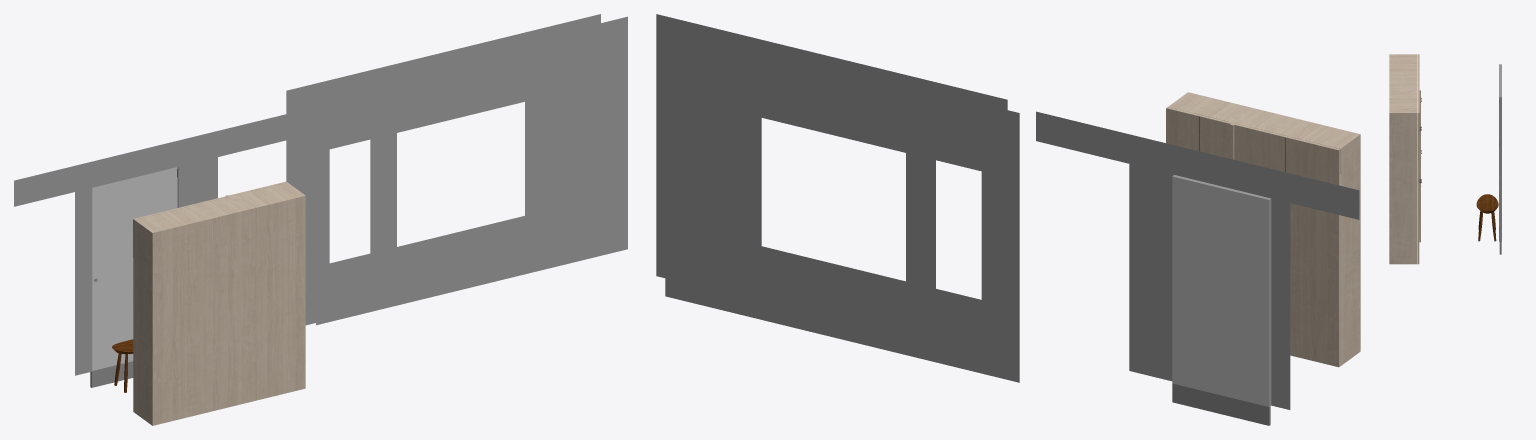
File: chair fix.fbx
3 views of the same model, side by side, from view 1: azimuth 30°, elevation 25°; view 2: azimuth 150°, elevation 25°; view 3: azimuth 270°, elevation 25° (orthographic). The views are drawn at different scales.
Visible parts, largest first — view 1: Object606510, Object606204, Group002; view 2: Object606510, Group002, Object606204; view 3: Object606204, Object606510, Cylinder260.
Boxes of the visible parts, x1,y1,x2,y2 form: Object606510: (14, 14, 627, 375); Object606204: (133, 181, 305, 425); Group002: (90, 167, 177, 387); Object606510: (656, 14, 1359, 409); Group002: (1172, 176, 1270, 425); Object606204: (1166, 92, 1360, 367); Object606204: (1389, 54, 1421, 264); Object606510: (1499, 64, 1501, 241); Cylinder260: (1476, 194, 1498, 213).
Size of the model in its own units: 7400 by 2736 by 1749.
Materials: 9 (2 with a texture image).
